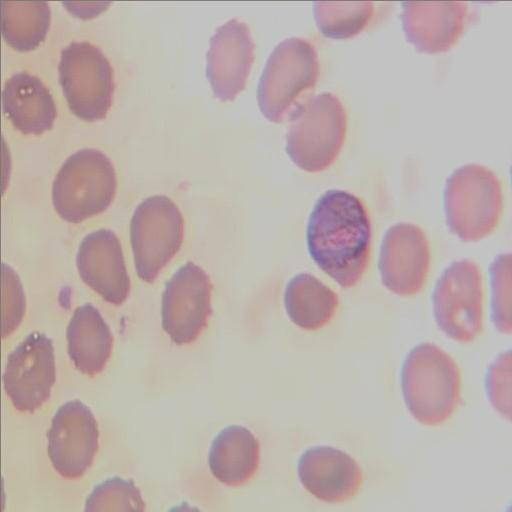Infected: (304, 190, 370, 288)
Uninfected: (260, 36, 323, 125), (286, 90, 350, 173), (401, 342, 460, 427), (50, 149, 119, 221), (127, 195, 185, 280), (433, 255, 488, 343), (57, 38, 116, 120), (443, 164, 505, 242), (47, 398, 100, 485), (207, 15, 257, 103), (74, 229, 130, 306), (161, 260, 211, 346), (377, 222, 431, 298), (6, 332, 56, 413), (296, 443, 361, 504), (0, 72, 60, 133), (66, 303, 116, 376), (401, 0, 468, 54), (283, 270, 342, 329), (207, 426, 265, 485)
